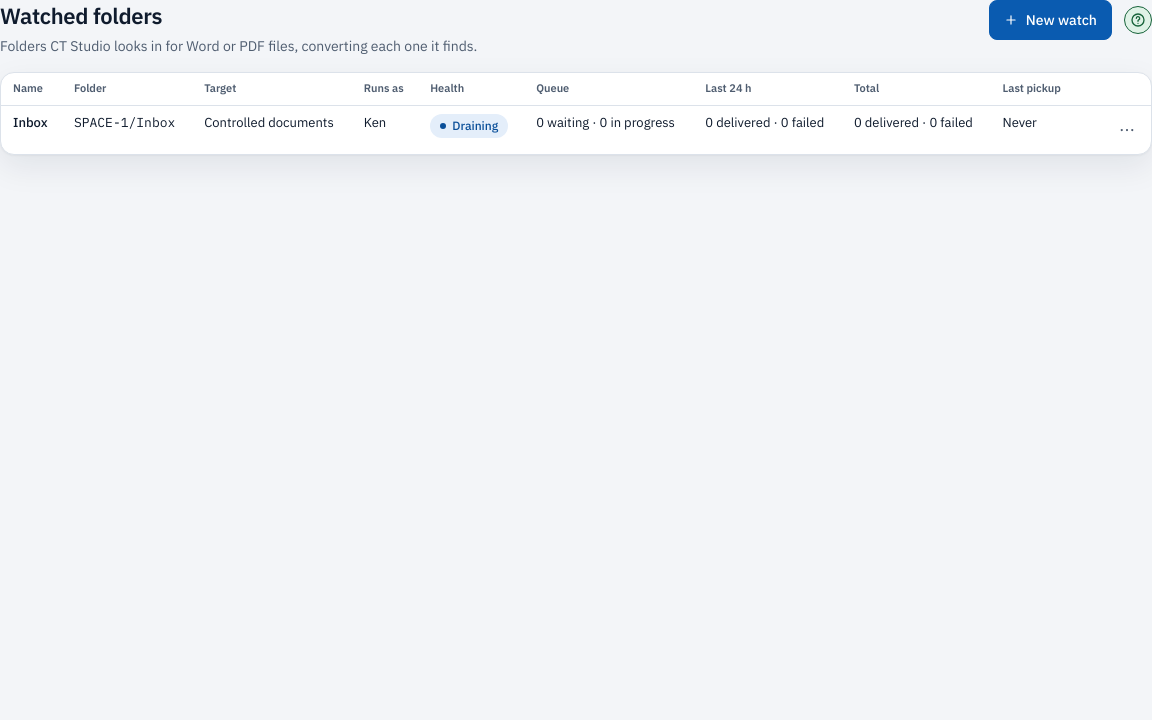
Test: the Watched folders page › offers only Stop now to a draining watch
The image size is (1152, 720).
Click the button named "Actions for Inbox": click(1127, 130) [1107,110,1147,150]
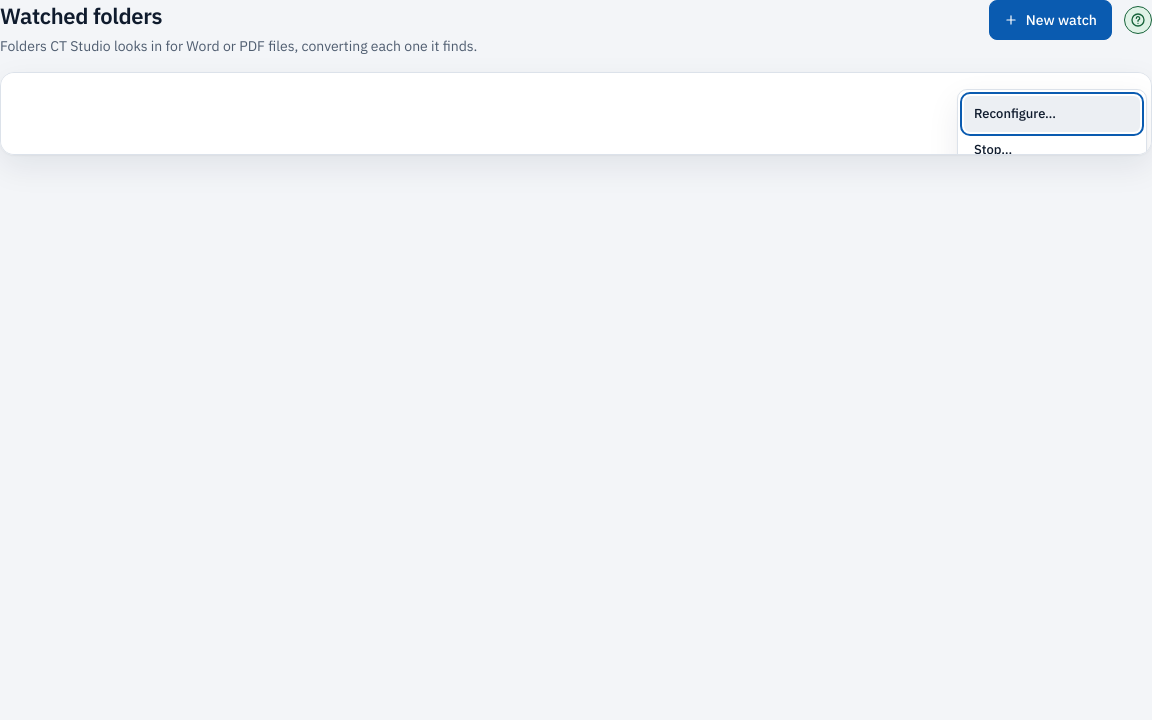
Click the menu item "Stop…": click(1052, 150) [964,132,1140,168]
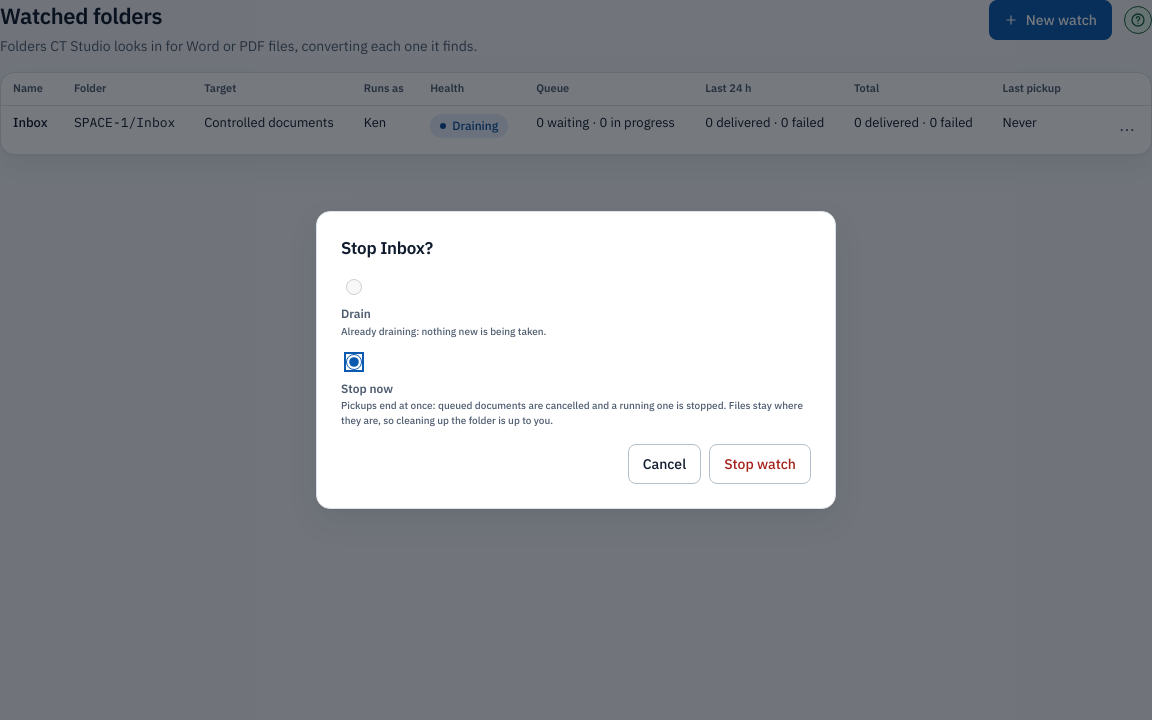
Result: the radio button labelled "Drain Already draining: nothing new is being taken." is disabled at [346,279,362,295]
Result: the radio button labelled "Stop now" is checked at [346,354,362,370]
